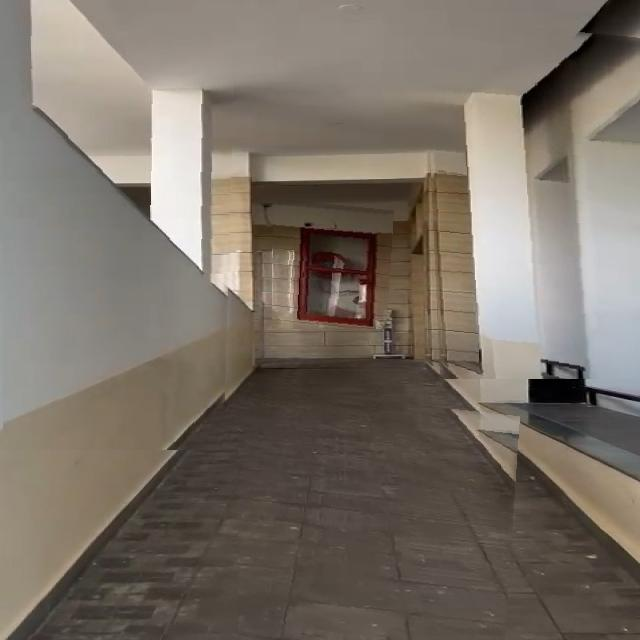door: (272, 198, 394, 329)
floor: (238, 385, 520, 640)
wall: (3, 18, 236, 450), (424, 17, 640, 379)
